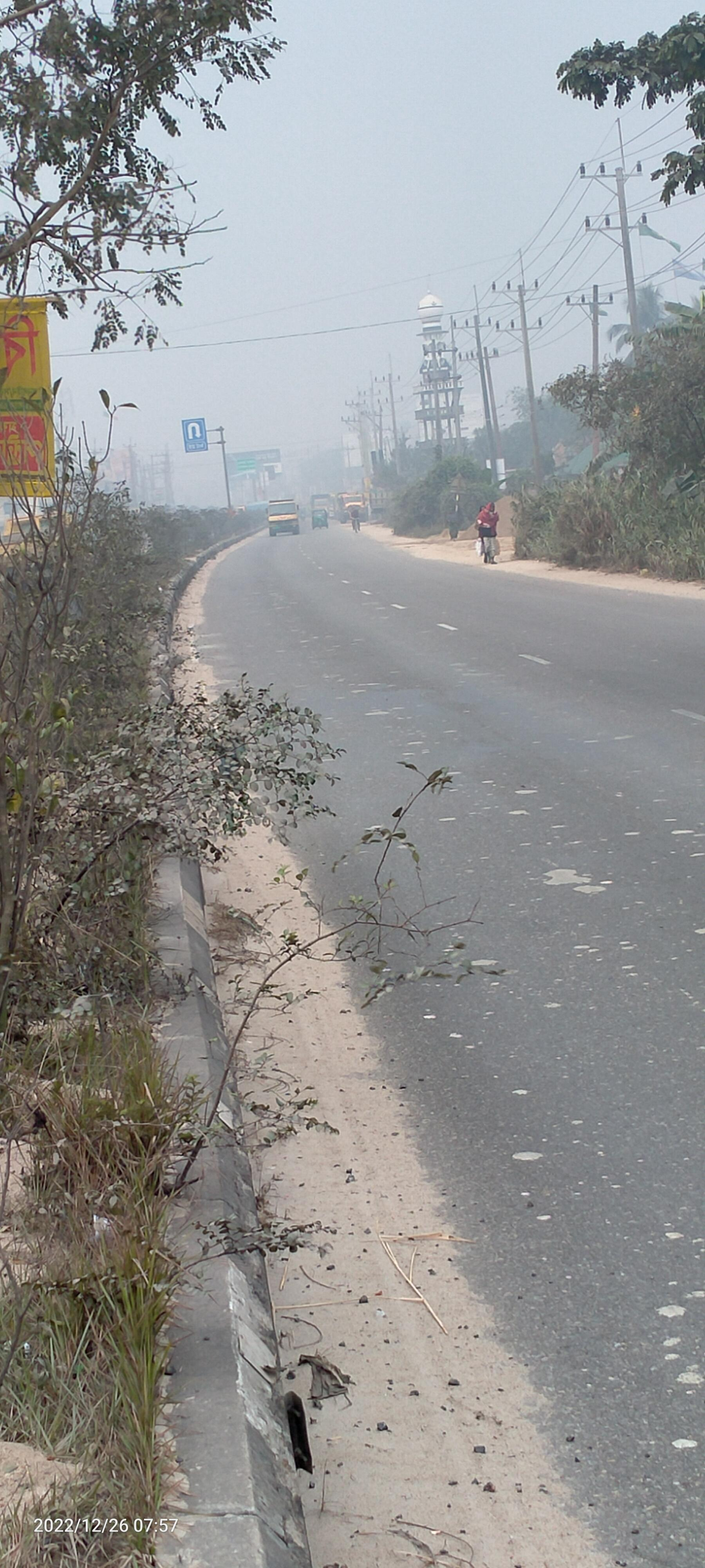Truck: (260, 494, 305, 541), (338, 485, 371, 528)
